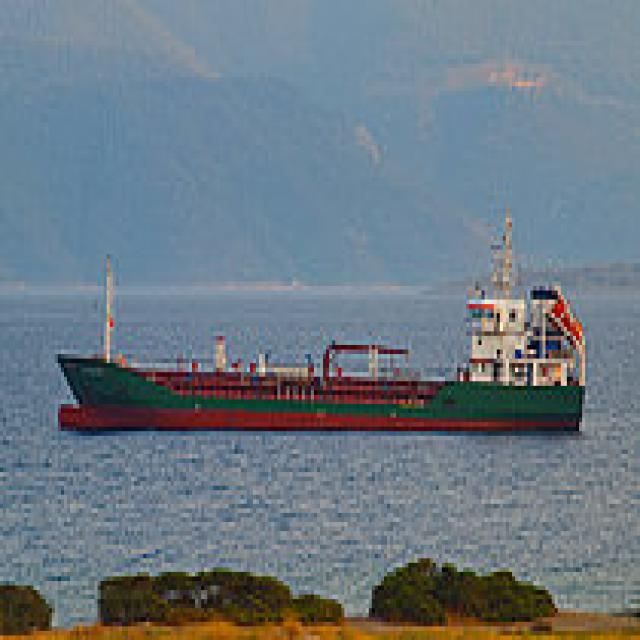Tanker: (52, 200, 585, 426)
